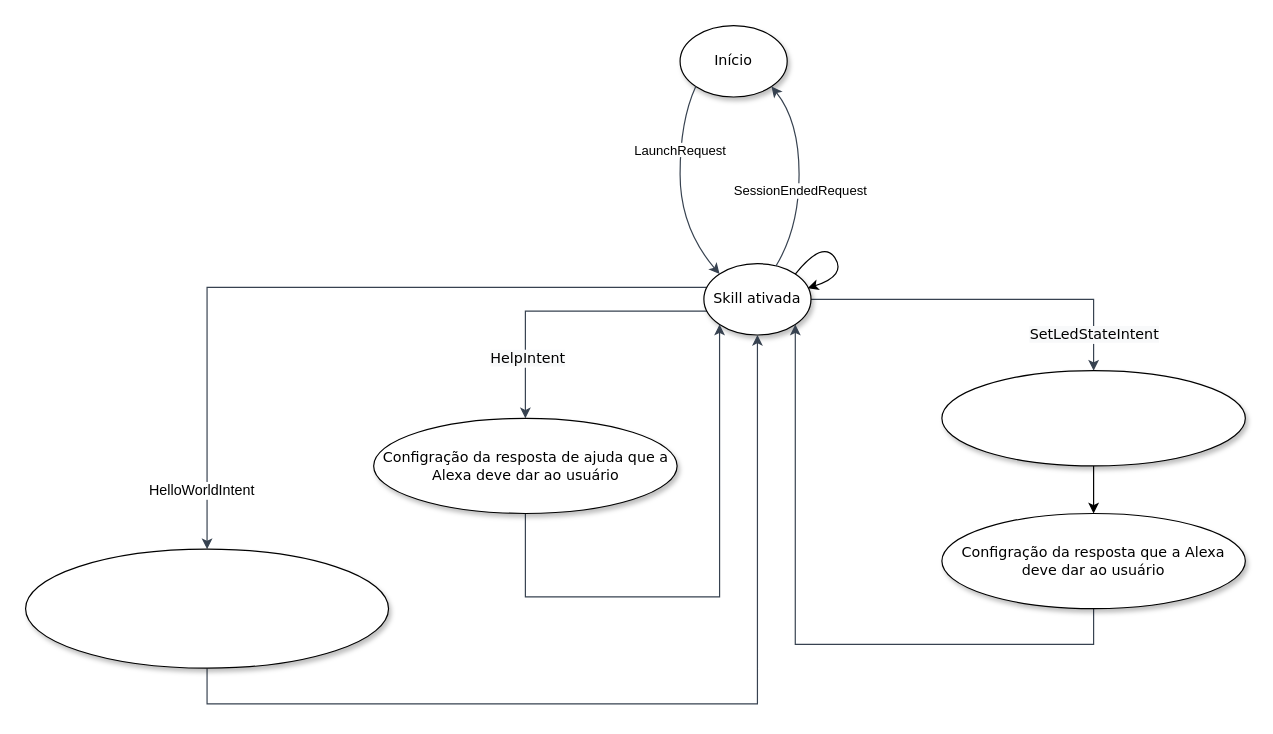
The diagram is 1273 pixels wide and 734 high, and some of its shapes have lost their labels. The shapes that lost their labels are listed below. From the top down, each one's centre as x and y in pixels, then its label:
At pixel 1094 419: "Envio de mensagens via tópicos MQTT".
At pixel 208 610: "Configração da resposta de boas vindas que a Alexa deve dar ao usuário".
